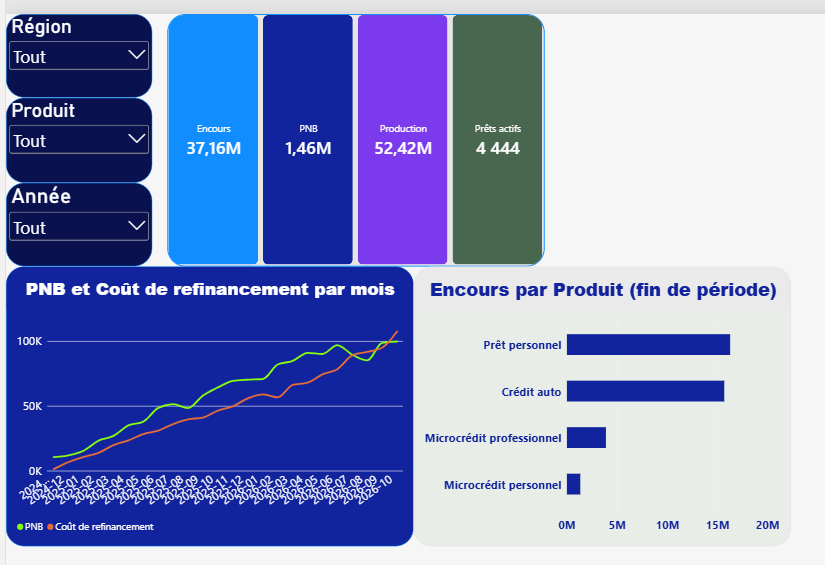

This screenshot's page, from the dashboard's own definition file:
{"tool":"powerbi","page":{"name":"Ateliat_Direction Générale","canvas":[1920,1080],"ordinal":0},"visuals":[{"type":"textbox","box":[10,580,280,280],"z":0},{"type":"cardVisual","fields":{"Data":["fact_loan_balance_monthly.Encours","fact_loan_balance_monthly.PNB","fact_loan_balance_monthly.Production","fact_loan_balance_monthly.Prêts actifs"]},"box":[10.3,0,621.6,461.1],"z":1000},{"type":"lineChart","title":"PNB et Coût de refinancement par mois","fields":{"Category":["dim_date.year_month"],"Y":["fact_loan_balance_monthly.PNB","fact_loan_balance_monthly.Coût de refinancement"]},"box":[10.3,580.4,671,461.1],"z":2000},{"type":"clusteredBarChart","title":"Encours par Produit (fin de période)","fields":{"Category":["dim_product.product_name"],"Y":["fact_loan_balance_monthly.Encours"]},"box":[763.6,580.4,622,461],"z":3000},{"type":"slicer","fields":{"Values":["dim_date.year"]},"box":[1492.3,722.5,240.8,137.9],"z":4000},{"type":"slicer","fields":{"Values":["dim_branch.region"]},"box":[1492.3,442.5,240.8,137.9],"z":5000},{"type":"slicer","fields":{"Values":["dim_product.product_name"]},"box":[1492.3,580.4,240.8,140],"z":6000}]}

Visuals, with their boxes on the page's 1920x1080 design canvas (x1, y1, x2, y2). These are canvas units, not pixel positions in the 825x565 screenshot, which may show the page scaled, cropped or inside an application window:
textbox: locate(10, 580, 290, 860)
cardVisual - fact_loan_balance_monthly.Encours x fact_loan_balance_monthly.PNB: locate(10, 0, 632, 461)
"PNB et Coût de refinancement par mois" lineChart: locate(10, 580, 681, 1042)
"Encours par Produit (fin de période)" clusteredBarChart: locate(764, 580, 1386, 1041)
slicer - dim_date.year: locate(1492, 722, 1733, 860)
slicer - dim_branch.region: locate(1492, 442, 1733, 580)
slicer - dim_product.product_name: locate(1492, 580, 1733, 720)
